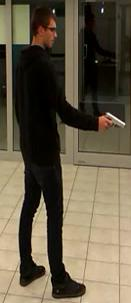pistol: (102, 111, 127, 133)
